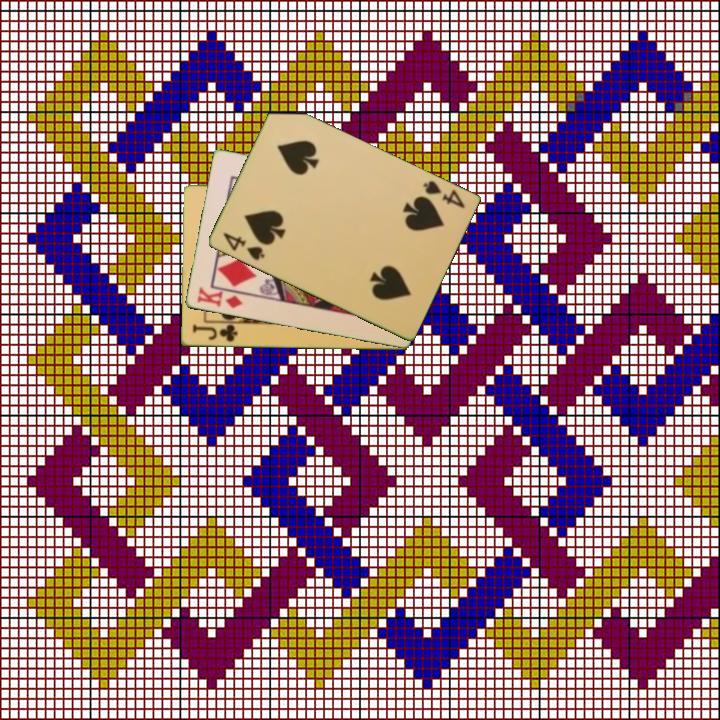4s: (419, 177, 468, 211), (219, 229, 267, 263)
Jc: (189, 321, 240, 345)
Kd: (193, 284, 245, 312)
